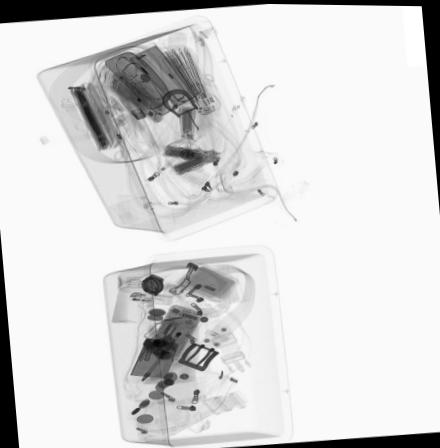Lighter: (127, 290, 174, 305)
